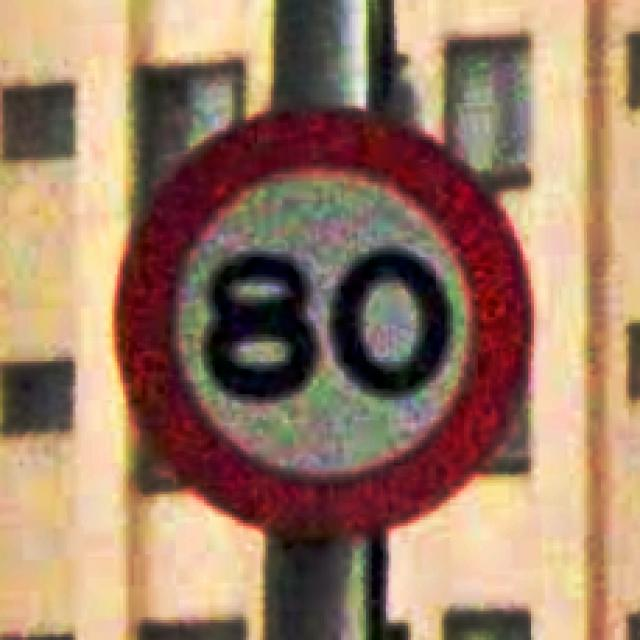max80: (109, 100, 534, 543)
